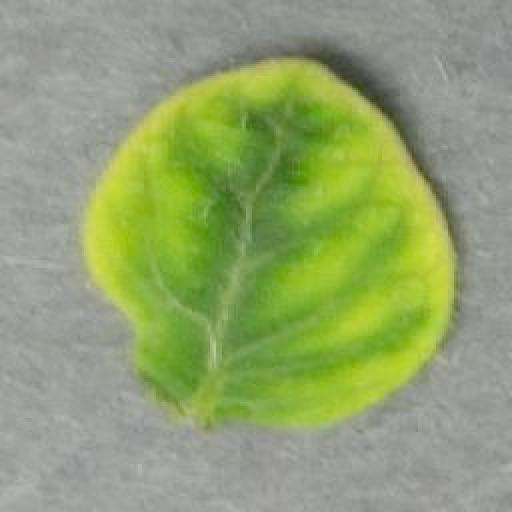disease_tomato: (80, 53, 458, 439)
